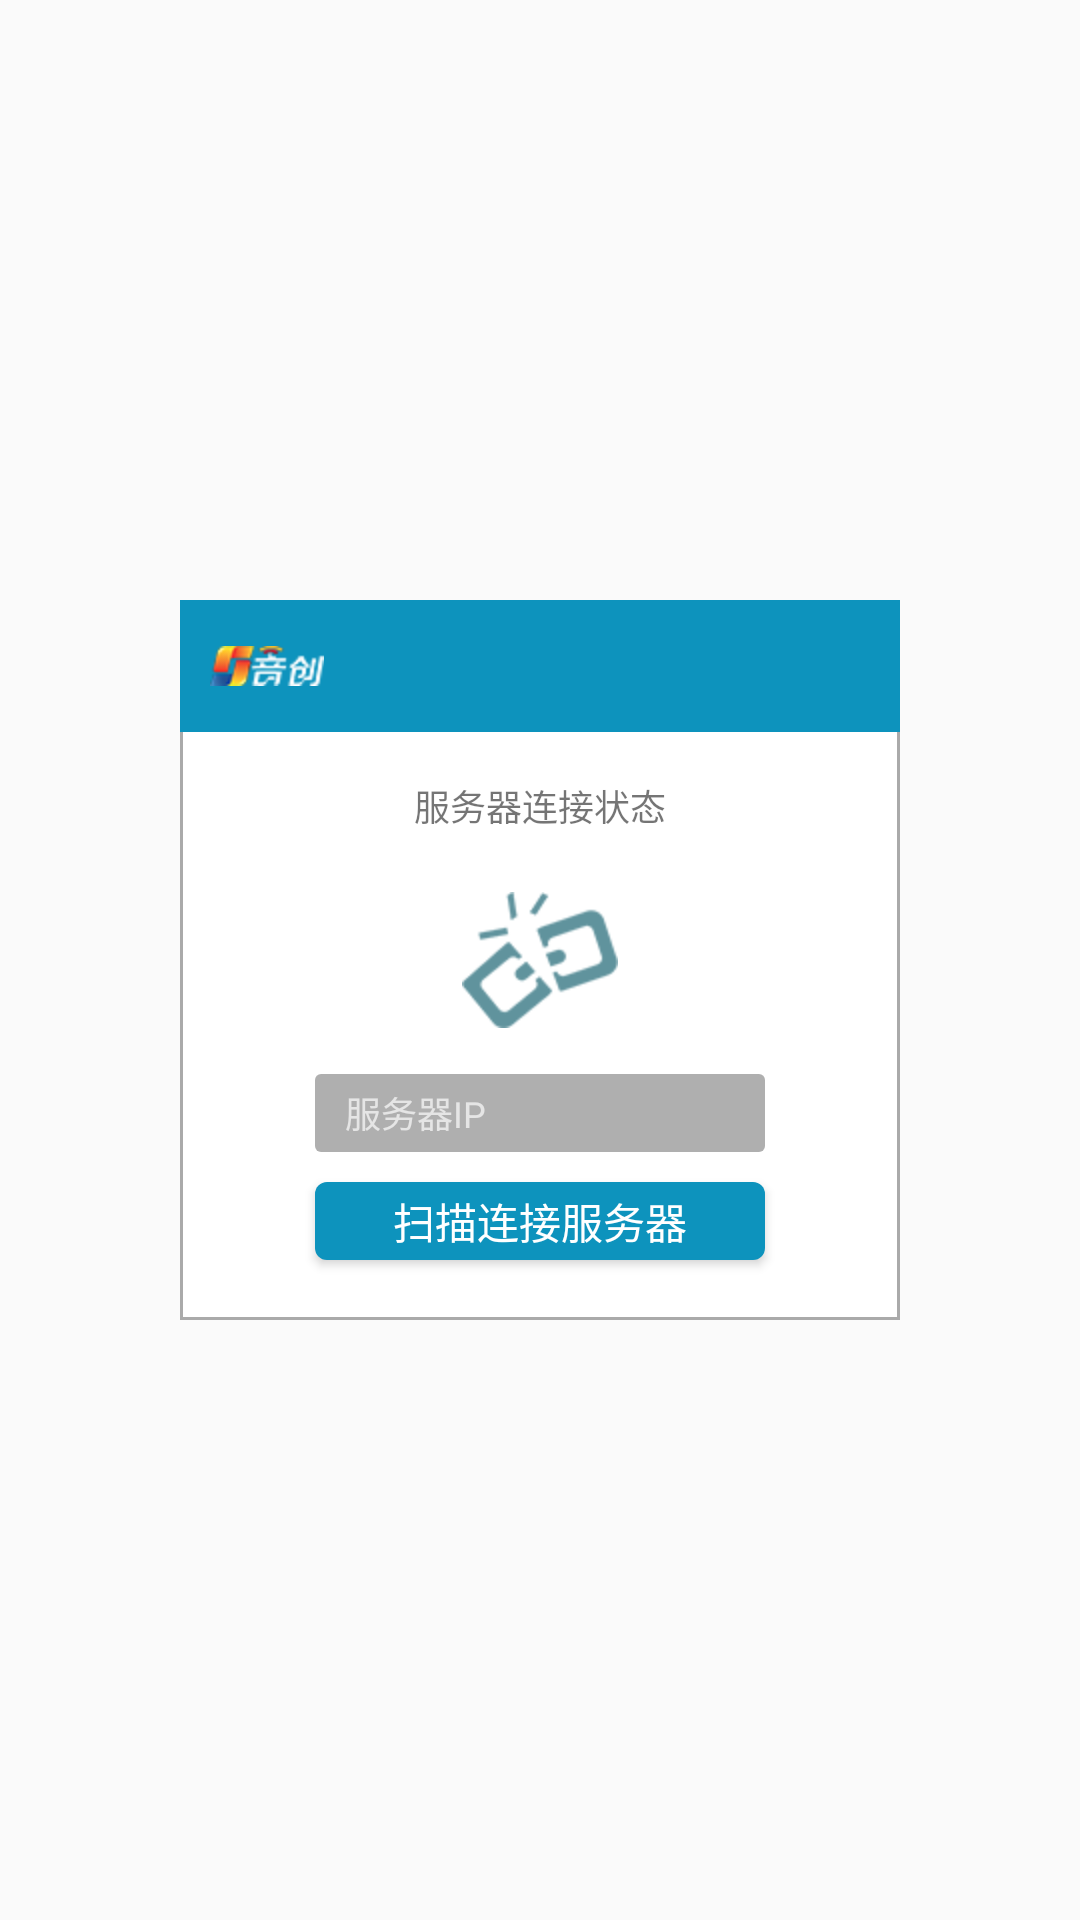

Where icons sit on this 1080w x 1920h app screen, as (x1, y1, x2, y2):
disconnect server: (462, 892, 618, 1028)
